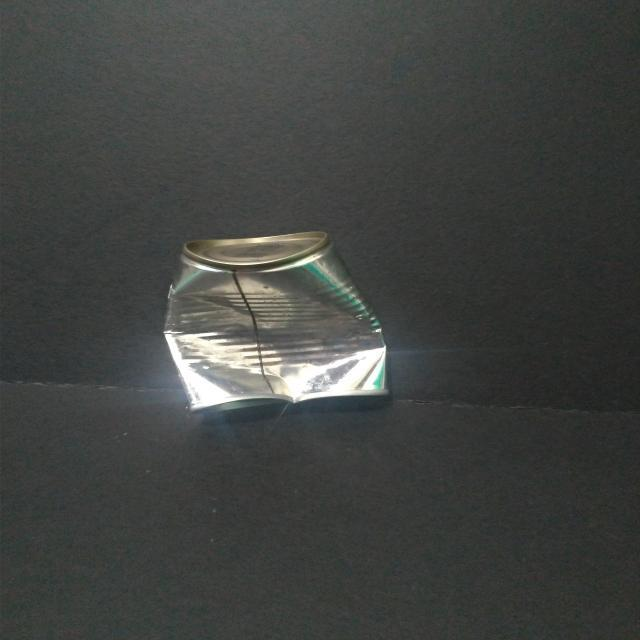metal-can: (158, 230, 394, 422)
